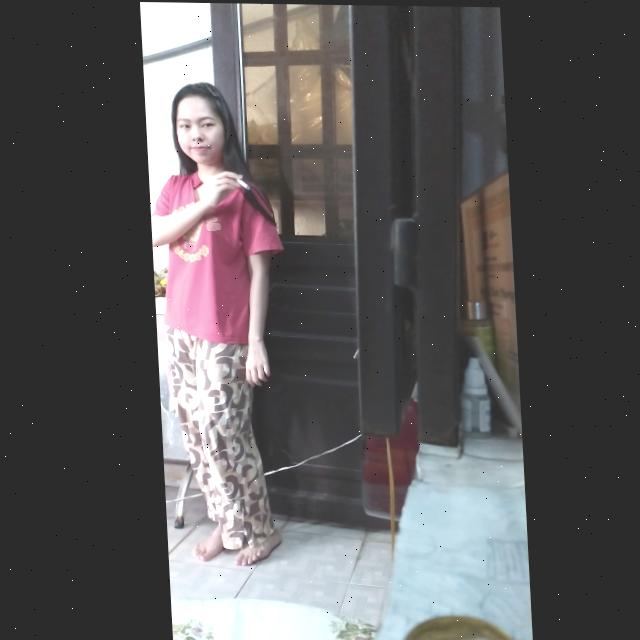cigarette: (233, 177, 248, 189)
